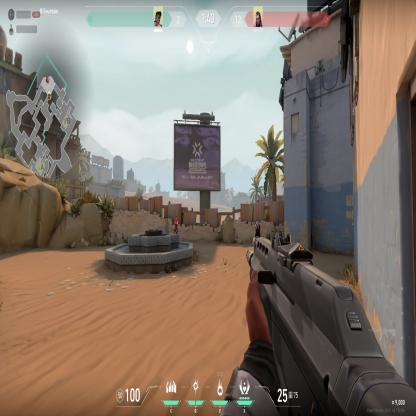enemy: (172, 215, 179, 233)
